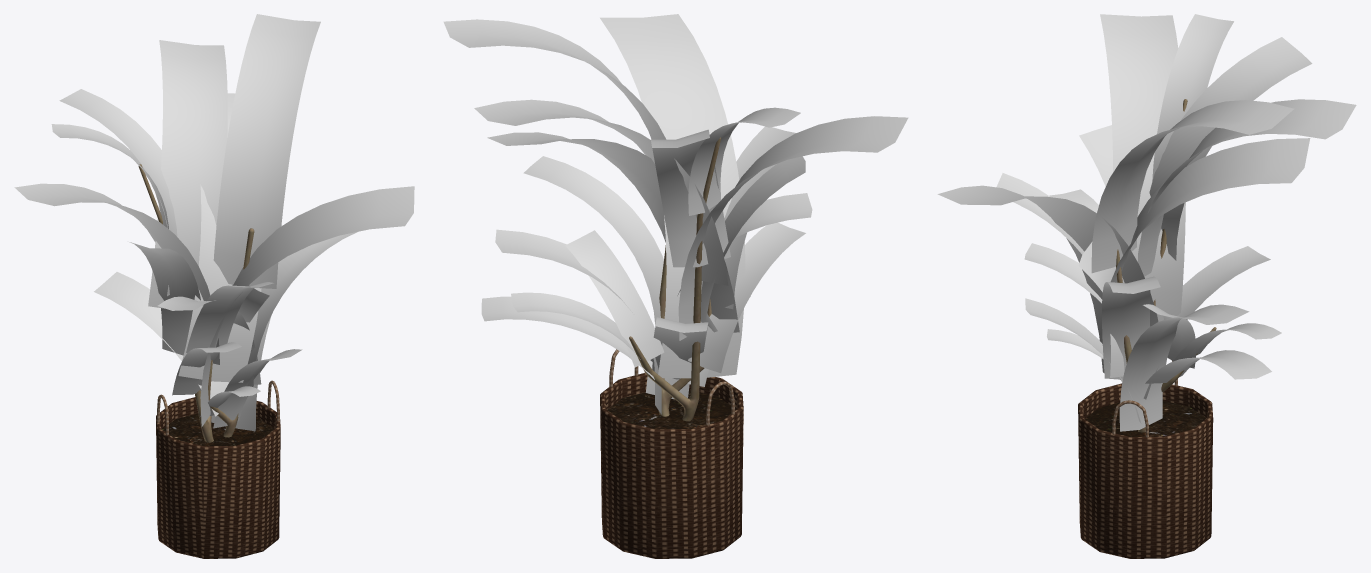
The model's file is Plants_Pots_1.fbx.
The picture shows the model from 3 angles, left to right: view 1: azimuth 30°, elevation 25°; view 2: azimuth 150°, elevation 25°; view 3: azimuth 270°, elevation 25°; orthographic projection. The views are drawn at different scales.
Parts seen in each view (by area): view 1: Cylinder.115; view 2: Cylinder.115; view 3: Cylinder.115.
Part boxes in pixels (x1,y1,x2,y2): Cylinder.115: [14, 14, 414, 558]; Cylinder.115: [443, 14, 908, 558]; Cylinder.115: [937, 14, 1356, 558].
Bounding box in the file's own units: 140 × 174 × 137.
